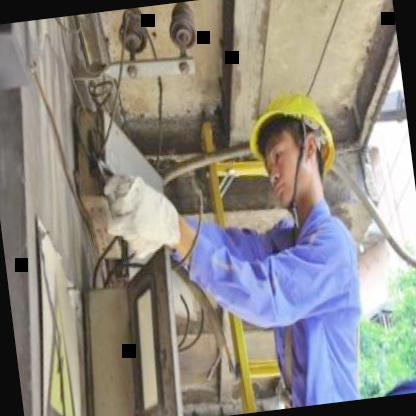helmet: (238, 76, 340, 218)
